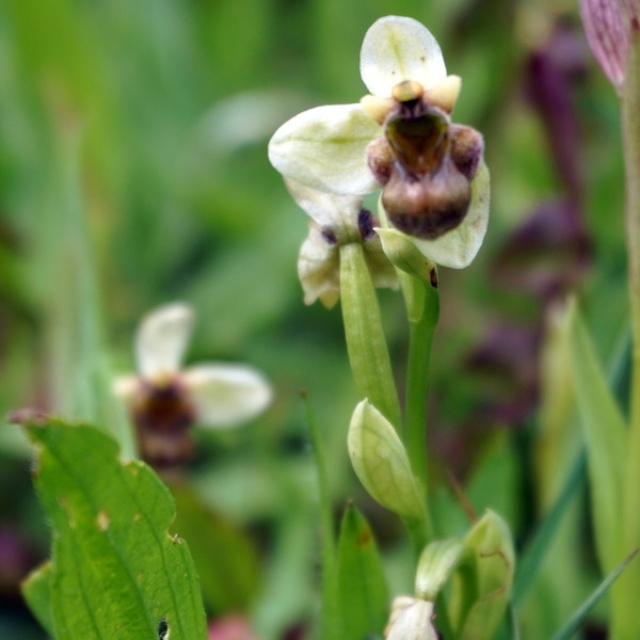obstacle: (269, 30, 529, 587)
